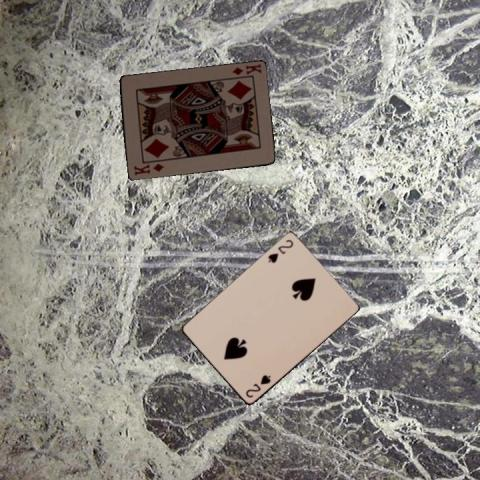2s: (264, 236, 294, 264), (243, 372, 272, 399)
Kd: (131, 161, 165, 177), (229, 61, 263, 77)
